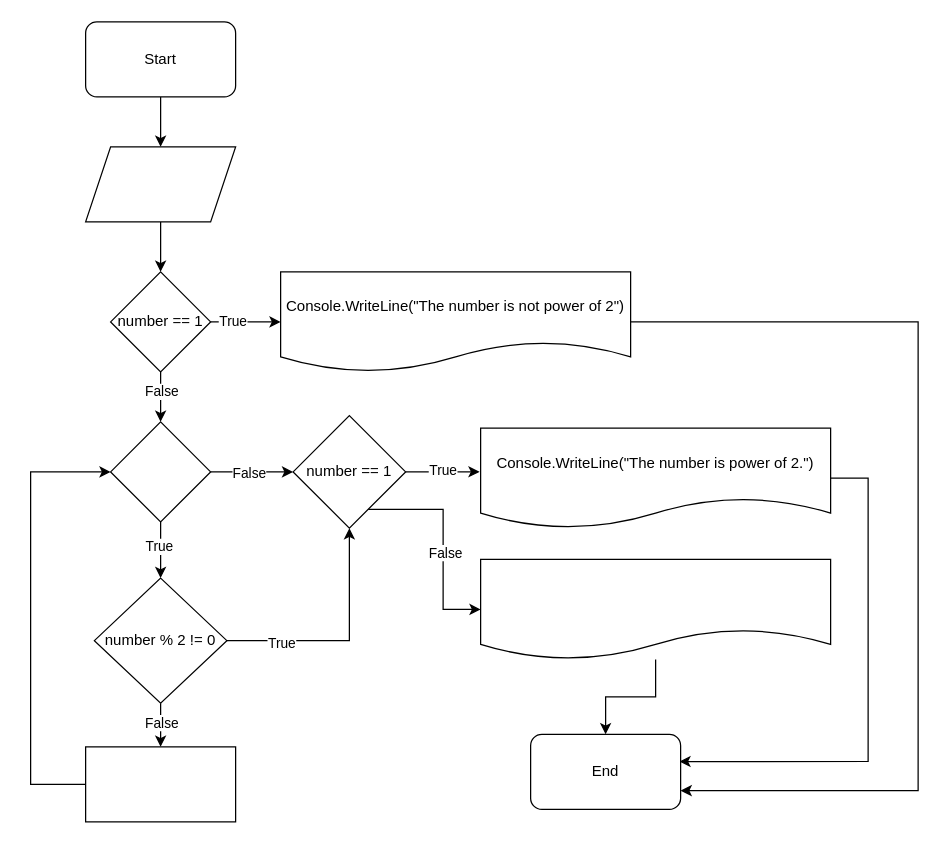
Image size: 950x844. Some labels were removed from this diagram. Each missing label, with the box of its shape:
Console.WriteLine("The number is not power of 2."): (479, 558, 831, 659)
int number: (84, 146, 236, 222)
number /= 2;: (84, 746, 236, 822)
number > 1: (109, 421, 211, 522)
